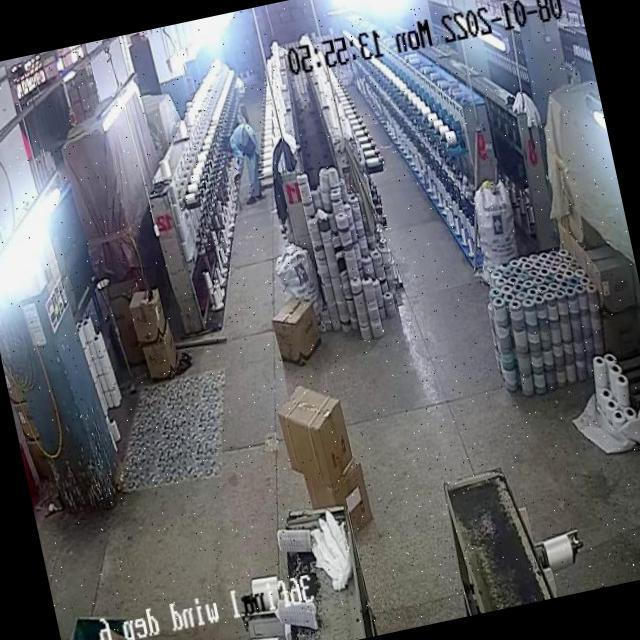person: (221, 118, 268, 202)
